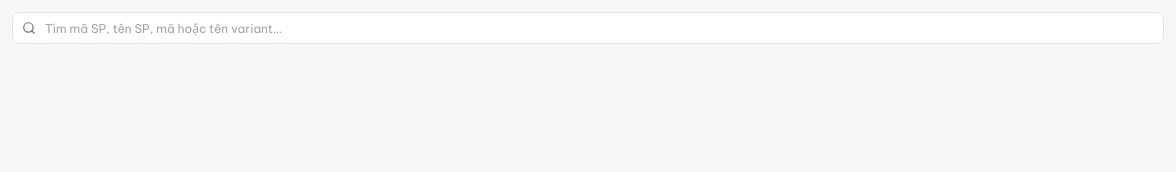
Test case: VariantSearchPicker › does not apply stale search results when an older request resolves after a newer one (reqSeq)
Type "aa" into the field with test id "variant-q" at (588, 28), box [12, 12, 1164, 44]
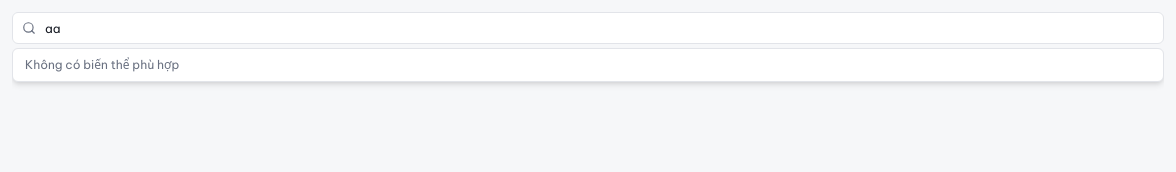
Focus the field with test id "variant-q" at (588, 28), box [12, 12, 1164, 44]
Wait 250 ms
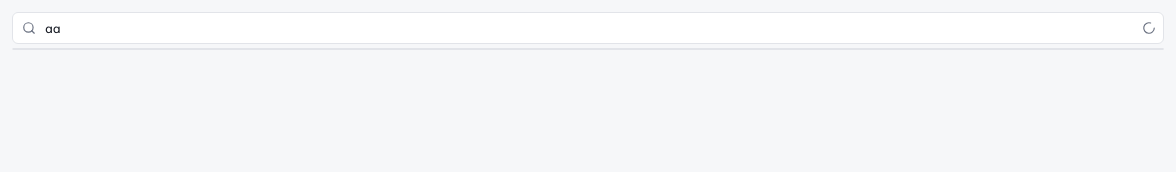
Replace the text in the field with test id "variant-q" with "bb" at (588, 28), box [12, 12, 1164, 44]
Wait 250 ms
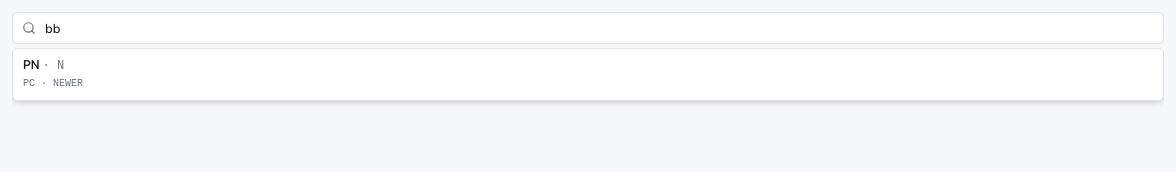
Expected: the text "PC · NEWER" is shown, [23, 76, 83, 92]
